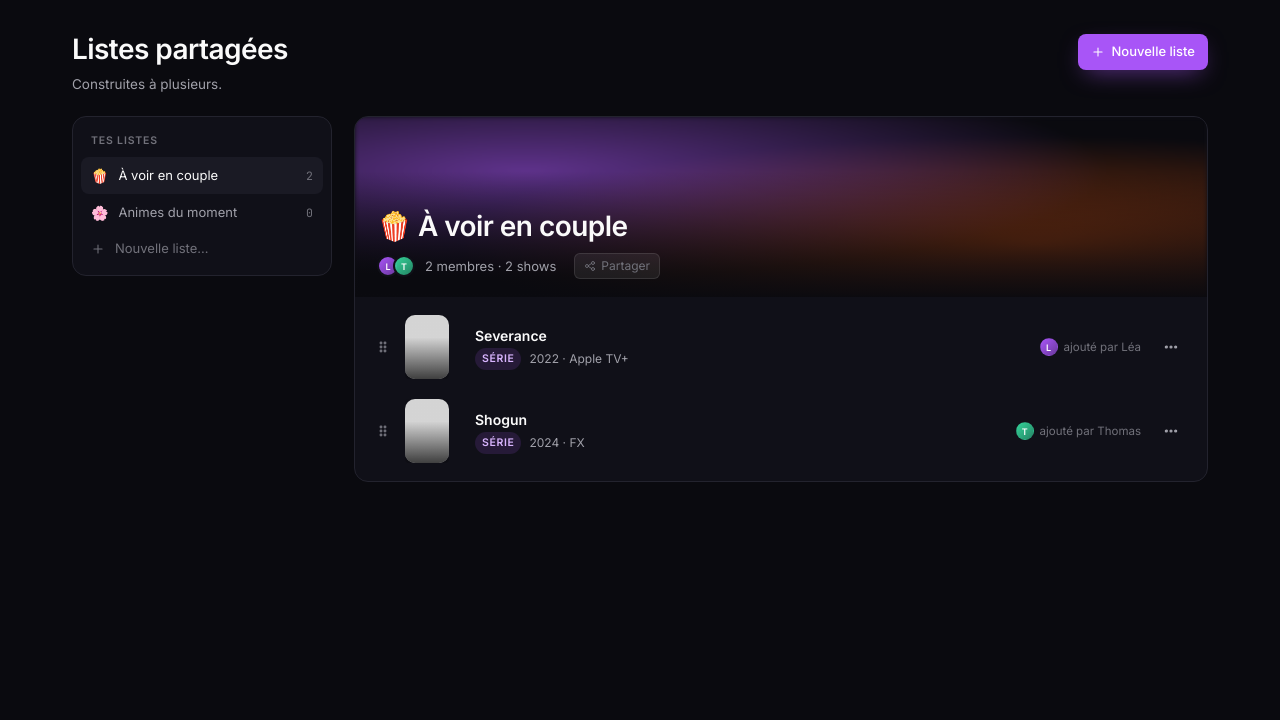
ListsPage › permet de partager une liste avec un membre de la famille
Check: the text "À voir en couple" is shown, box [118,166,218,185]
Click the button "Partager" at (617, 266), box [574,253,660,279]
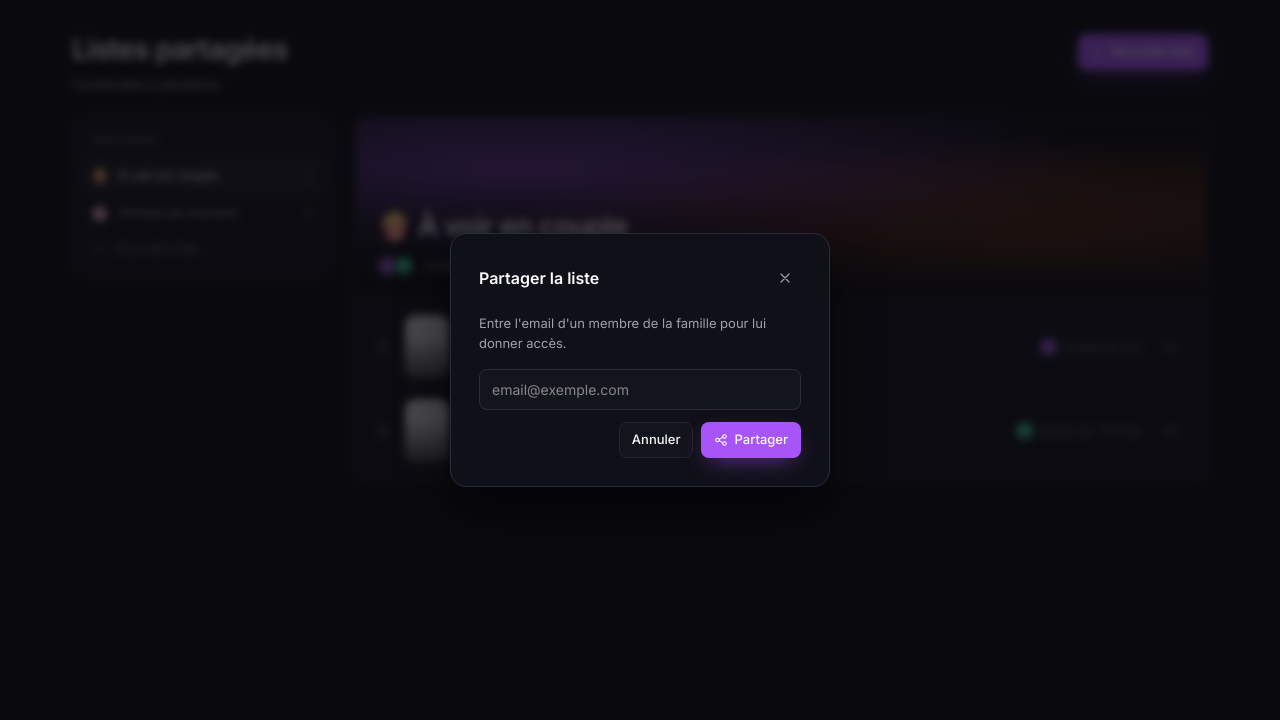
Check: the heading "Partager la liste" is shown, box [479,266,599,290]
Type "alice@example.com" into the field with placeholder "email@exemple.com" at (640, 390), box [479,369,801,410]
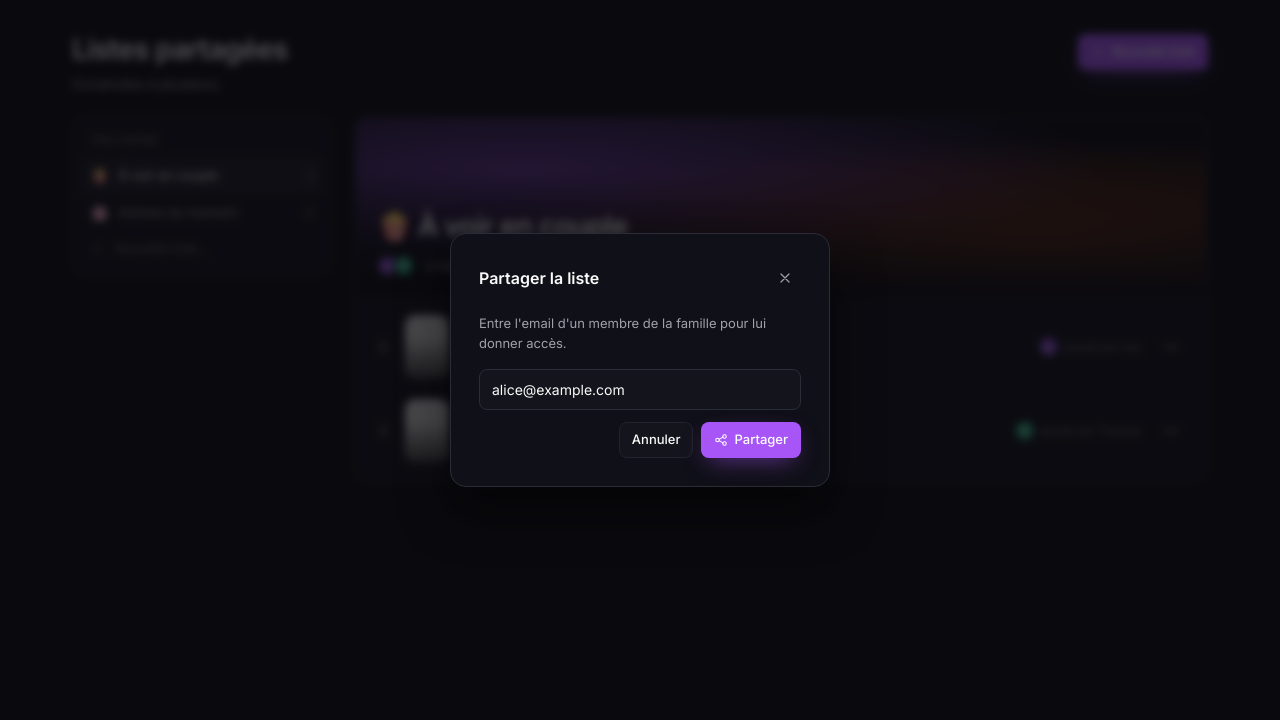
Click the button "Partager" at (751, 440), box [702,422,801,458]
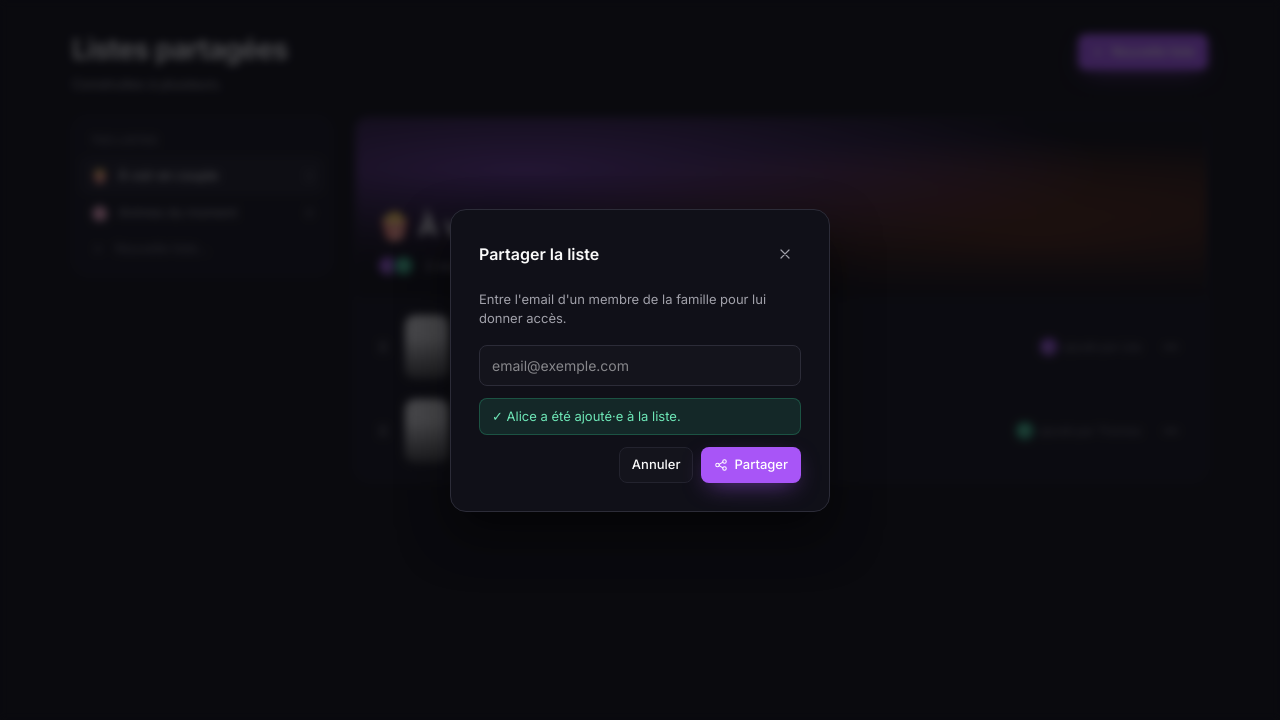
Check: the text "✓ Alice a été ajouté·e à la liste." is shown, box [479,398,801,435]
